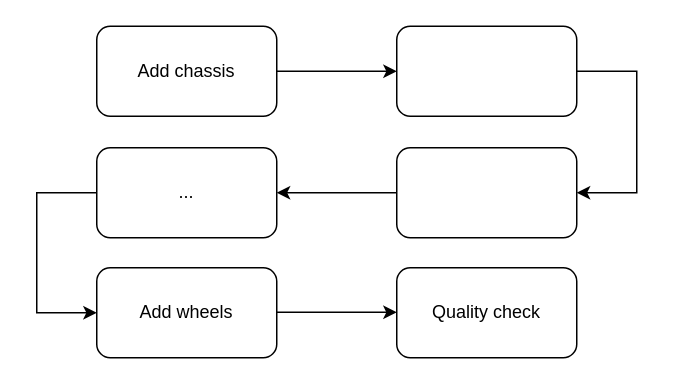
Image size: 675x384. Some labels were removed from this diagram. The shapes that lost their labels are listed below. From the top down, each one's centre as x and y in pixels, then its label:
the point at 486,70: Add doors
the point at 486,192: Paint job
